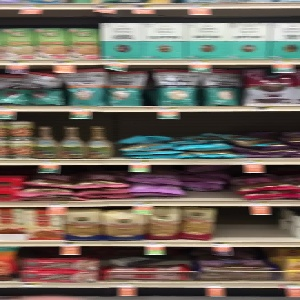void: (215, 204, 297, 241), (184, 162, 238, 200)
